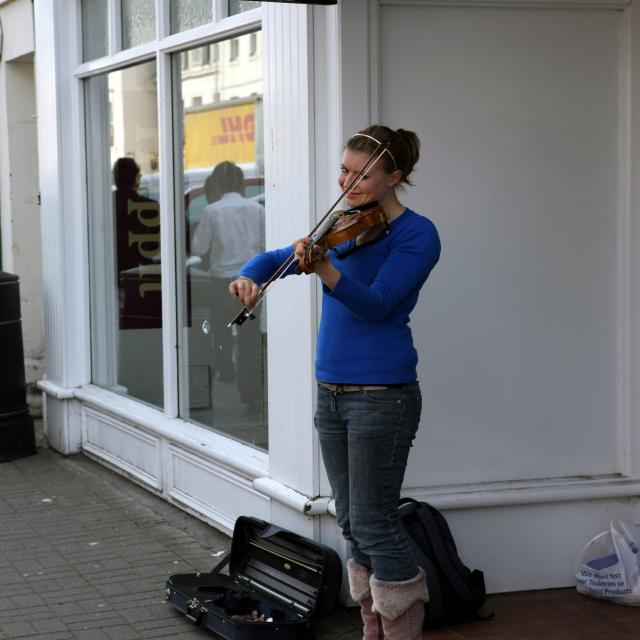violin: (292, 200, 392, 271)
